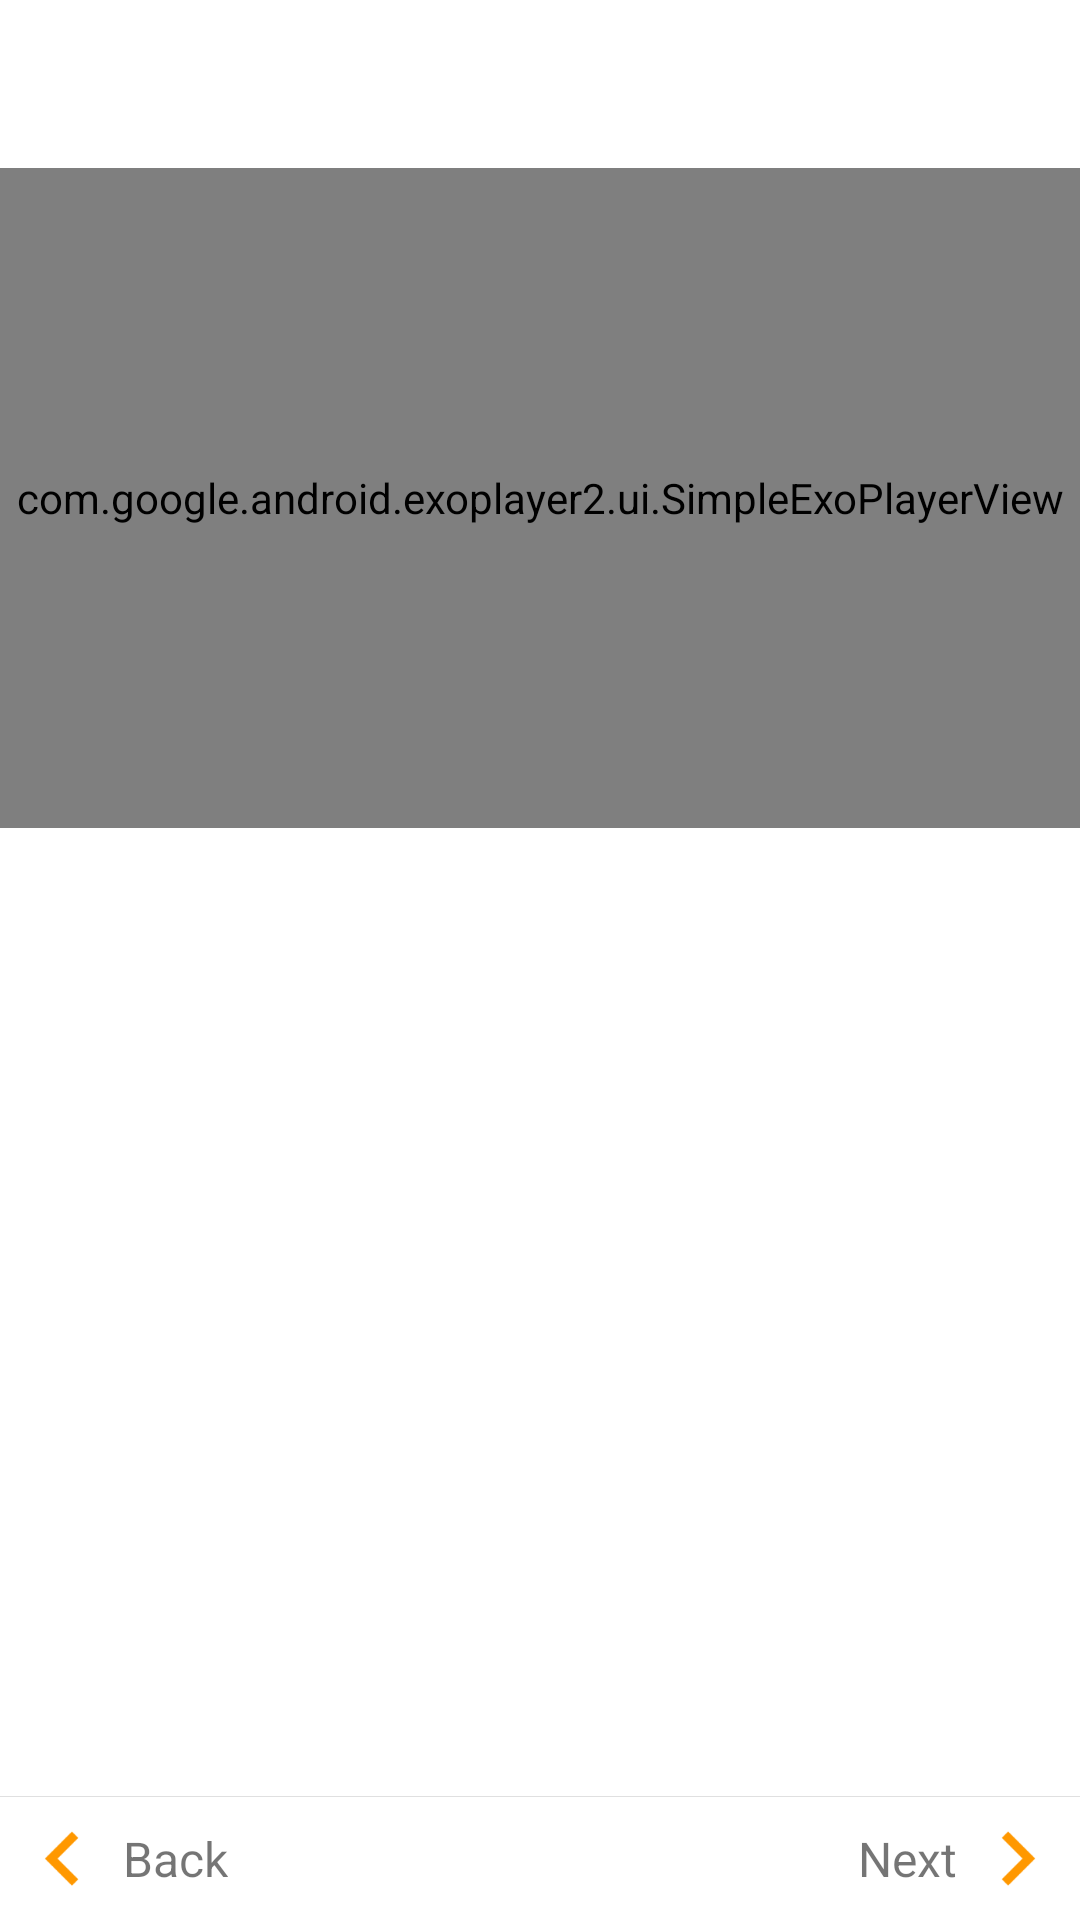

Icon bounding boxes for this 1080 × 1920 phone screenshot, format (x1, y1, x2, y2):
keyboard arrow left: (45, 1831, 78, 1886)
keyboard arrow right: (1002, 1831, 1035, 1886)
